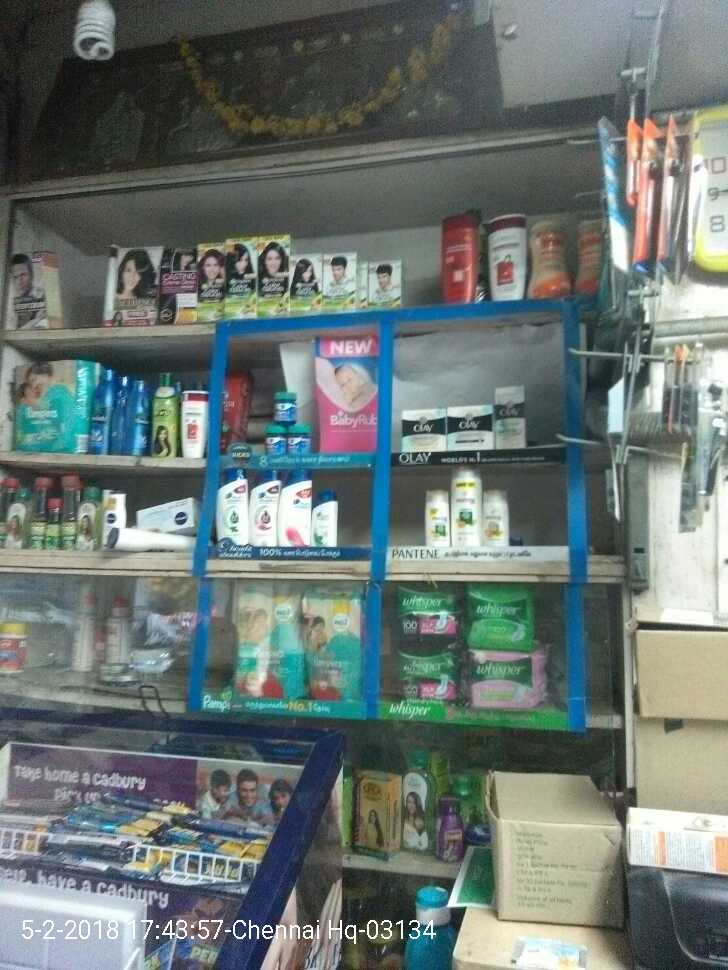vicks: (261, 386, 318, 466)
